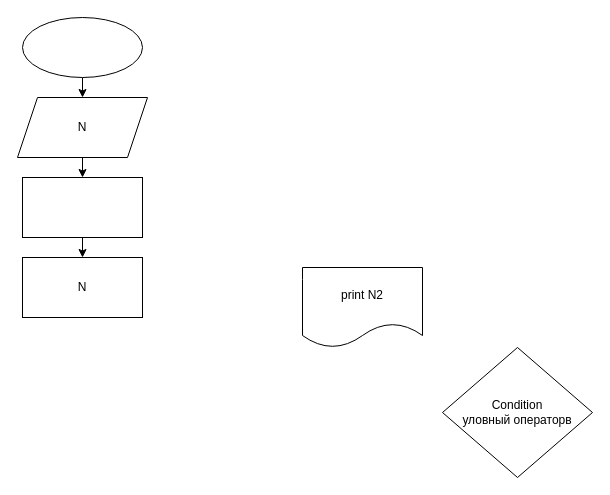
Image size: 610x495. Some labels were removed from this diagram. The centre of each missing label's shape, as x and y in pixels:
"r r = random (1, N)" goes at (82,207).
"Start" goes at (82,47).
